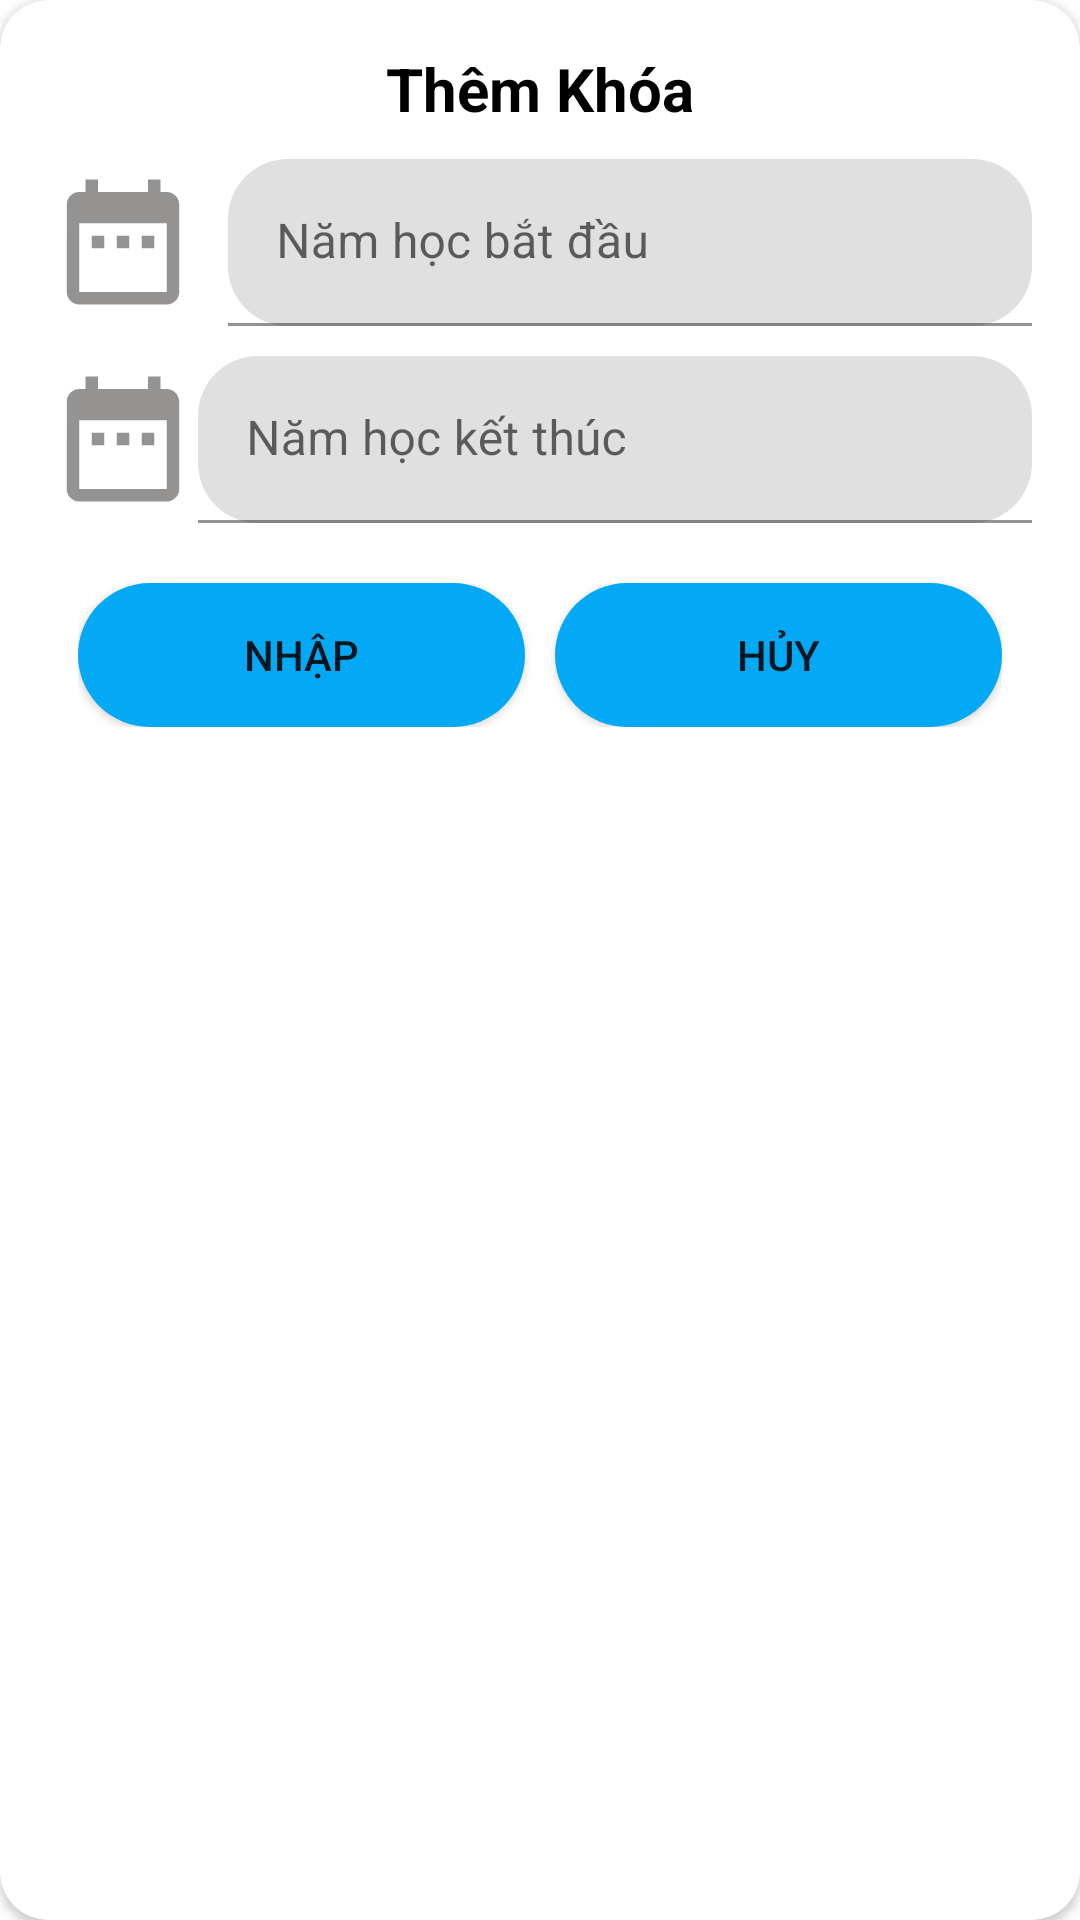

Point at icon controls on the screen. Image size 1080×1920, points as (x=x, y=y).
date range: (x=123, y=242), (x=123, y=439)
